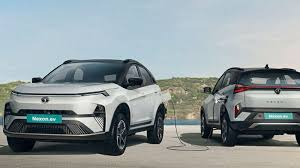Tata Nexon: (3, 55, 170, 156), (197, 61, 300, 153)
